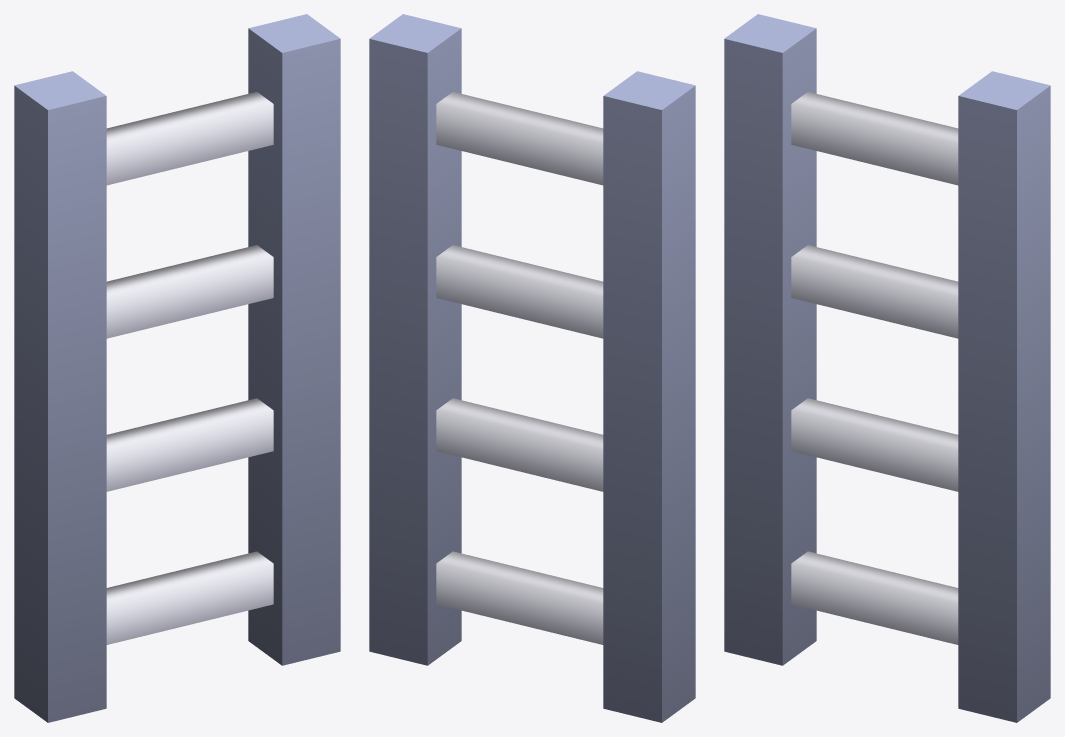
Rendered from ladder.glb.
3 renders of one model, left to right at view 1: azimuth 30°, elevation 25°; view 2: azimuth 150°, elevation 25°; view 3: azimuth 330°, elevation 25°, orthographic.
Parts seen in each view (by area): view 1: ladder; view 2: ladder; view 3: ladder.
Part boxes in pixels (x1=…): ladder: x1=14, y1=14, x2=340, y2=722; ladder: x1=369, y1=14, x2=695, y2=722; ladder: x1=724, y1=14, x2=1050, y2=722.
Size of the model in its own units: 0.5 by 1 by 0.1.
